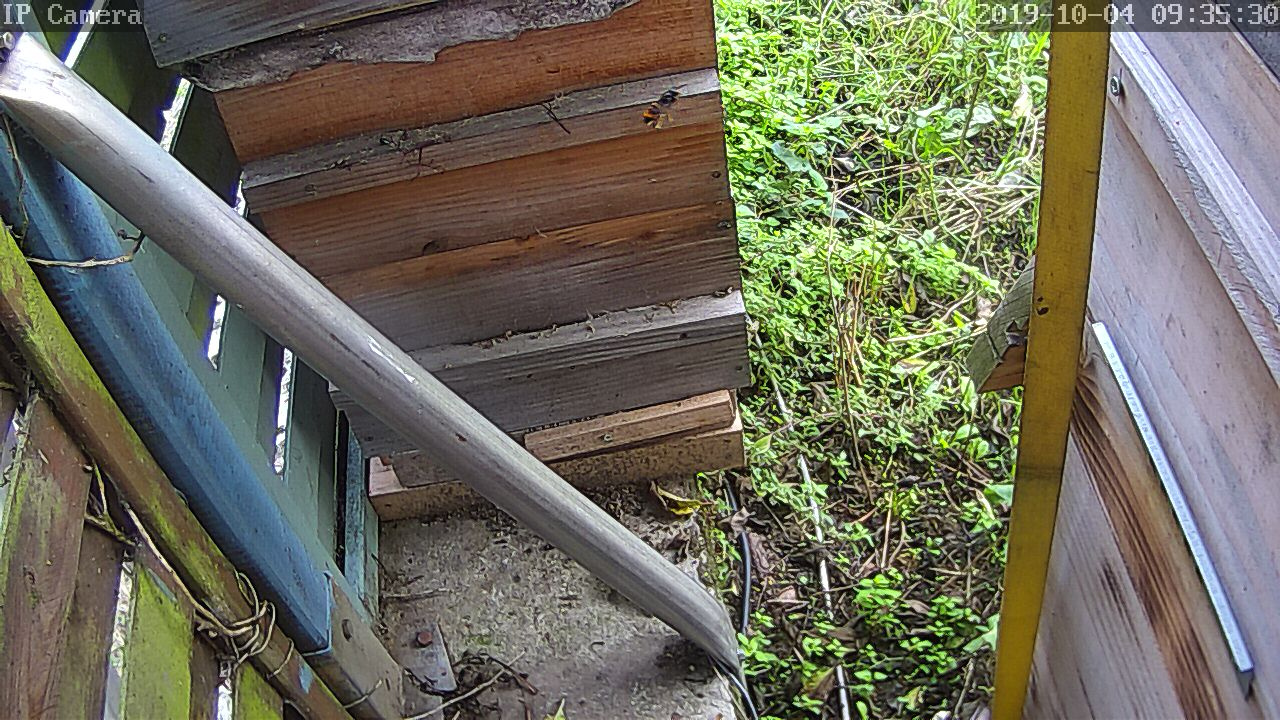hornet: (614, 473, 676, 524), (642, 75, 707, 123), (845, 475, 874, 531), (995, 322, 1027, 372)
